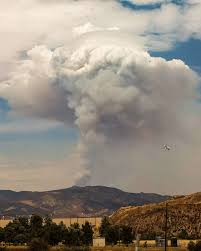smoke: (2, 2, 201, 191)
